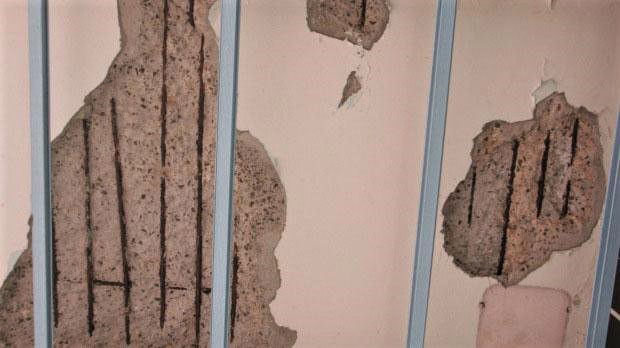merge: (1, 1, 299, 346), (439, 87, 612, 292), (303, 1, 394, 57), (335, 67, 367, 109)
